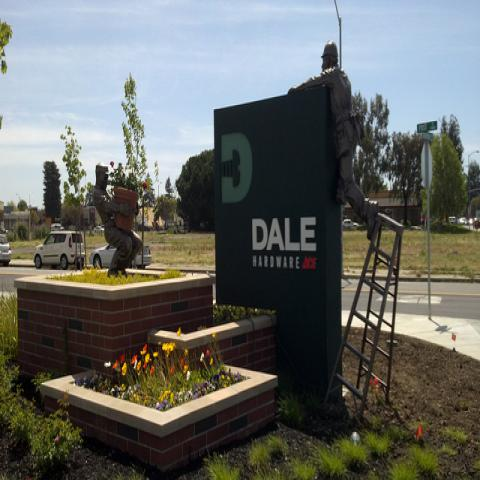car: (33, 232, 87, 264), (89, 243, 153, 270), (0, 235, 12, 266), (437, 216, 456, 232), (342, 219, 359, 227), (457, 217, 469, 226), (478, 220, 479, 228)
